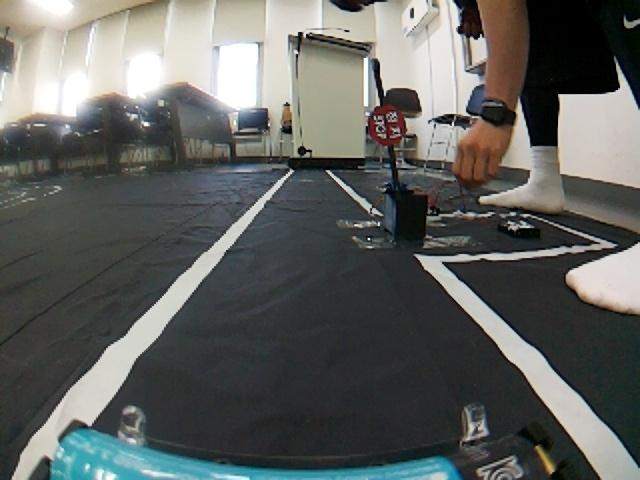sign_stop: (368, 104, 409, 148)
straight: (15, 183, 640, 480)
